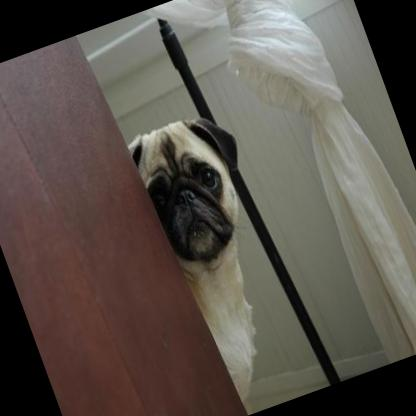pug: (122, 102, 321, 414)
